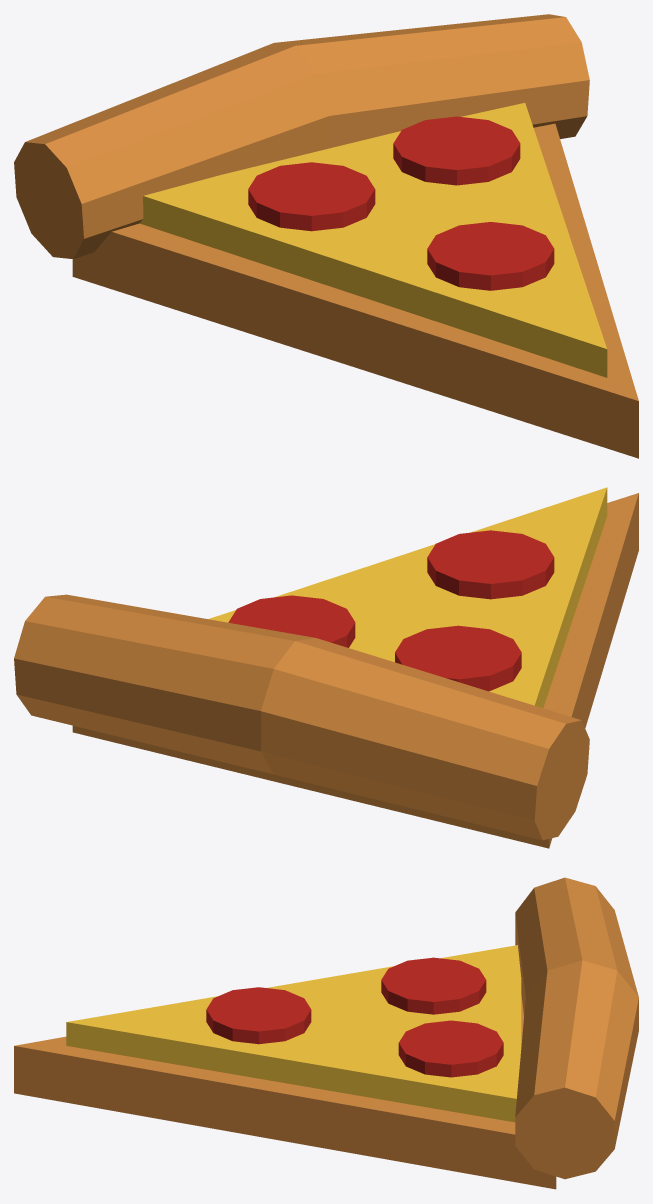
Rendered from food_pizza.glb.
The picture shows the model from 3 angles, top to bottom: view 1: azimuth 30°, elevation 25°; view 2: azimuth 150°, elevation 25°; view 3: azimuth 270°, elevation 25°; orthographic projection. The views are drawn at different scales.
Parts seen in each view (by area): view 1: food_pizza; view 2: food_pizza; view 3: food_pizza.
Boxes of the visible parts, <box> form: food_pizza: <box>14,14,638,458</box>; food_pizza: <box>14,487,638,848</box>; food_pizza: <box>14,877,638,1189</box>.
Size of the model in its own units: 0.286 by 0.084 by 0.3573.
